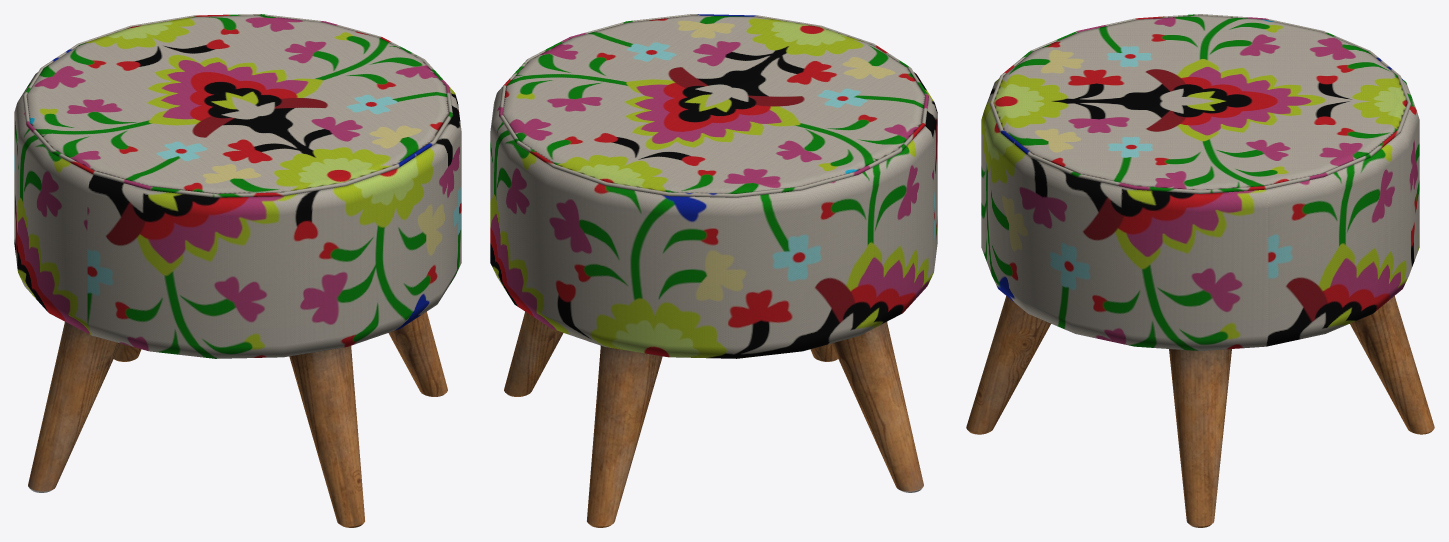
The model's file is ottoman_stool.glb.
3 views of the same model, side by side, from view 1: azimuth 30°, elevation 25°; view 2: azimuth 150°, elevation 25°; view 3: azimuth 270°, elevation 25° (orthographic). The views are drawn at different scales.
Visible parts, largest first — view 1: Stool1; view 2: Stool1; view 3: Stool1.
Boxes of the visible parts, bbox=[...] form: Stool1: bbox=[14, 14, 461, 527]; Stool1: bbox=[490, 14, 937, 527]; Stool1: bbox=[966, 14, 1434, 527].
Size of the model in its own units: 2.14 by 1.66 by 2.14.
Materials: 1 (1 with a texture image).
